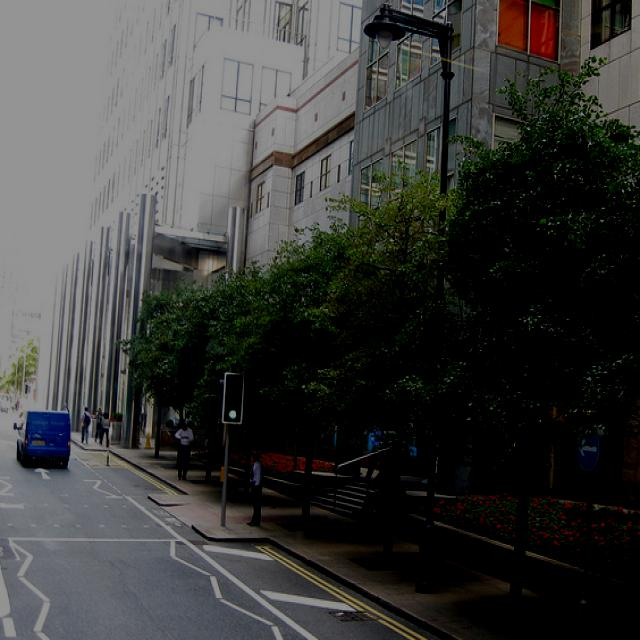Vehicle: (12, 413, 70, 461)
